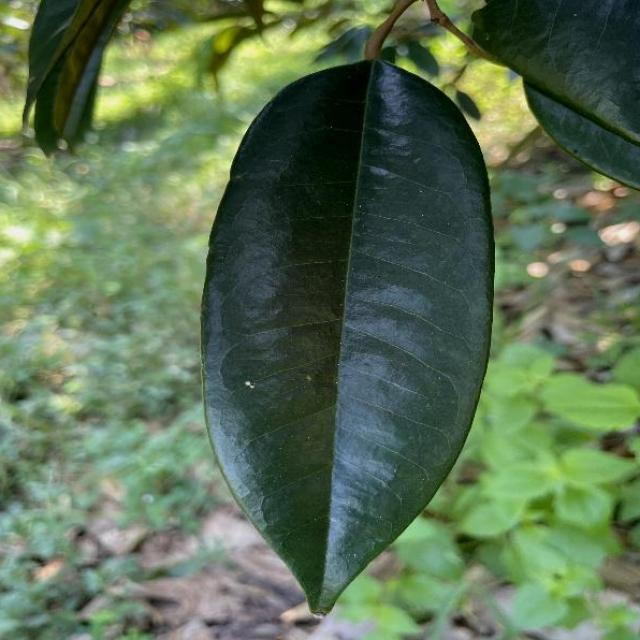No Disease: (190, 43, 504, 627)
